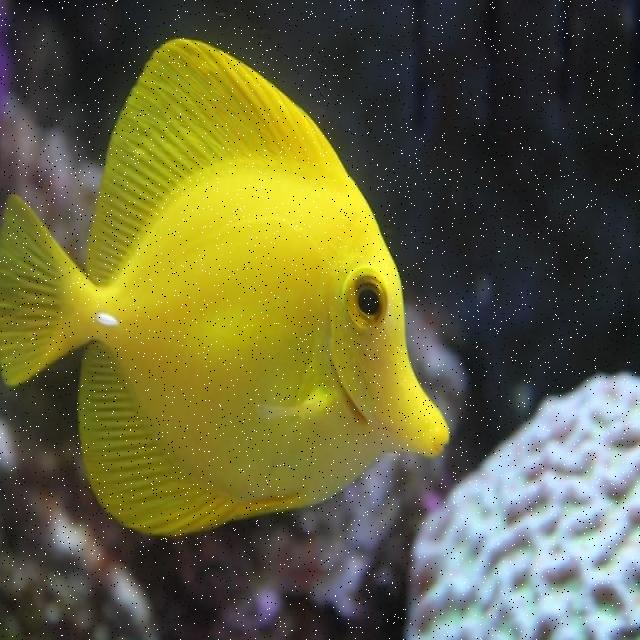fish: (0, 38, 450, 539)
reefs: (405, 372, 639, 639)
